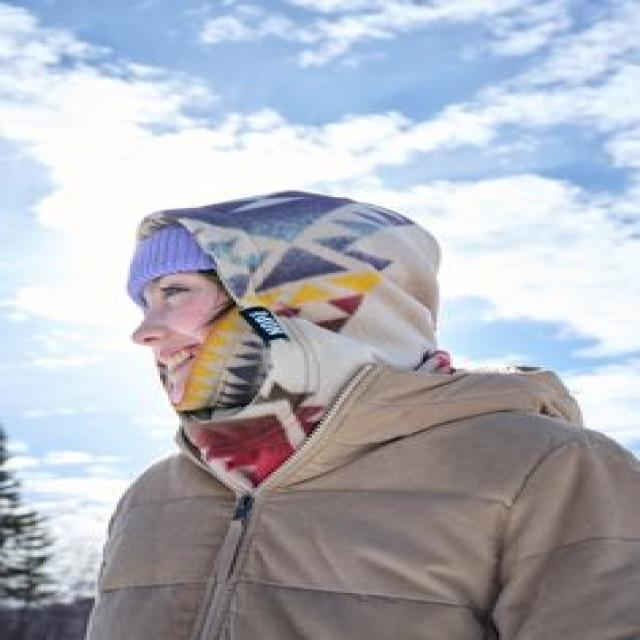4_capucha: (136, 190, 442, 447)
